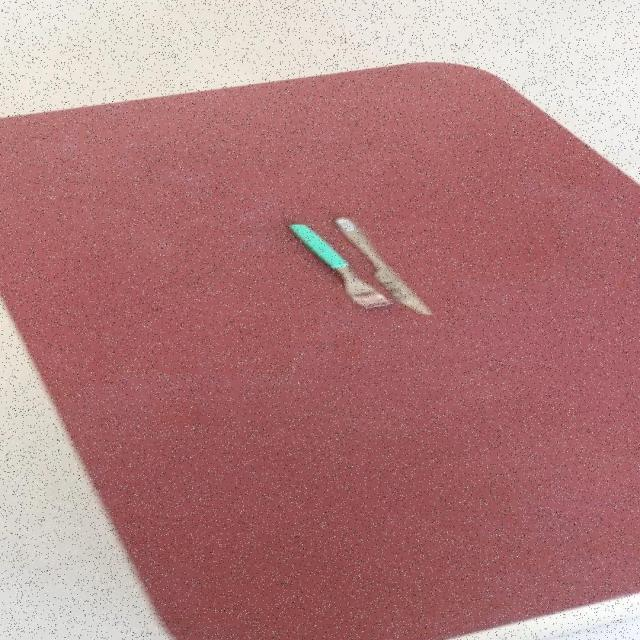Fork: (333, 215, 436, 315), (289, 222, 394, 309)
Knife: (334, 215, 437, 315), (289, 222, 394, 309)
